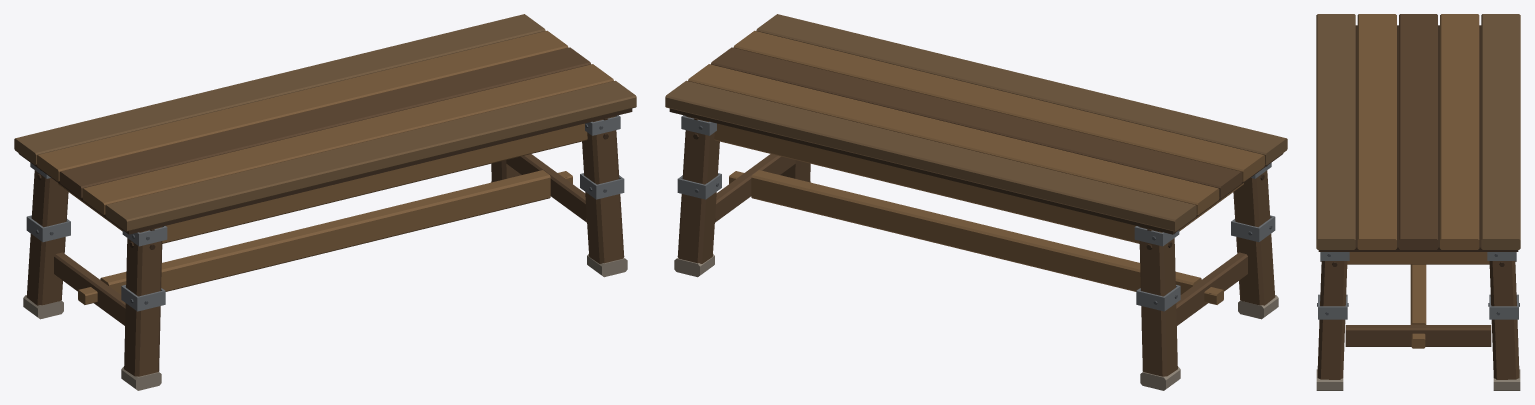
Rendered from SM_LPD_Furn_TableLong_01.fbx.
3 views of the same model, side by side, from view 1: azimuth 30°, elevation 25°; view 2: azimuth 150°, elevation 25°; view 3: azimuth 270°, elevation 25° (orthographic). The views are drawn at different scales.
Parts seen in each view (by area): view 1: SM_LPD_Furn_TableLong_01; view 2: SM_LPD_Furn_TableLong_01; view 3: SM_LPD_Furn_TableLong_01.
Part boxes in pixels (x1,y1,x2,y2): SM_LPD_Furn_TableLong_01: (14,14,636,390); SM_LPD_Furn_TableLong_01: (665,14,1287,390); SM_LPD_Furn_TableLong_01: (1316,14,1520,390).
Size of the model in its own units: 2.4 by 0.78 by 0.92.
